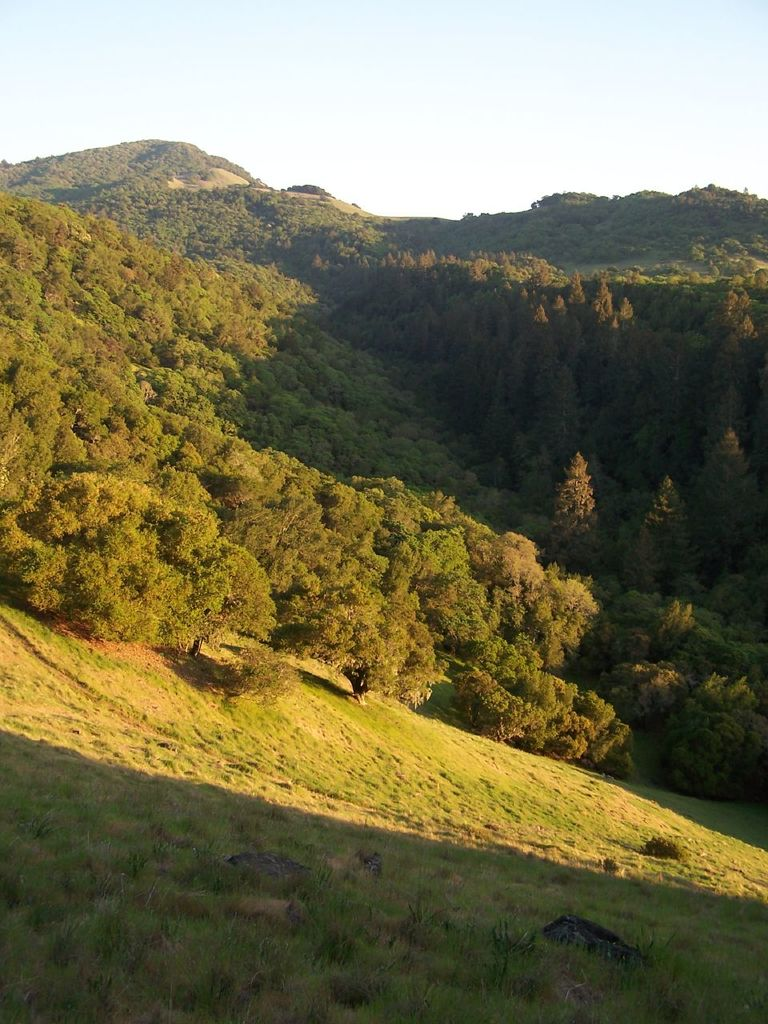Tree: (0, 138, 767, 809)
